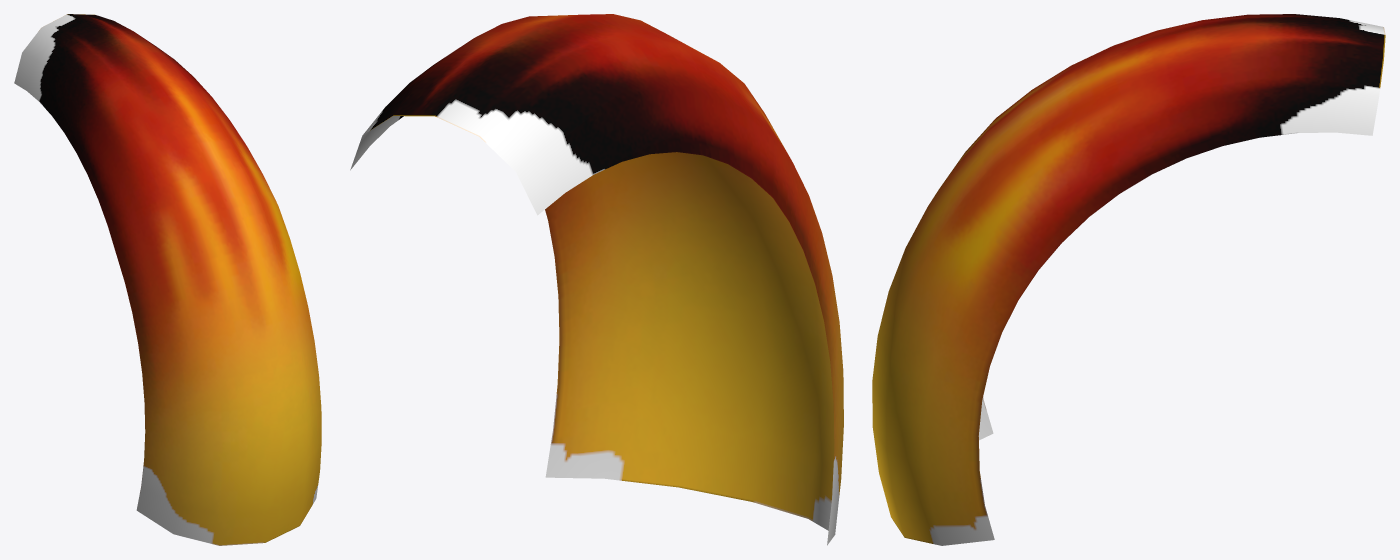
Rendered from sword_t.FBX.
The picture shows the model from 3 angles, left to right: view 1: azimuth 30°, elevation 25°; view 2: azimuth 150°, elevation 25°; view 3: azimuth 270°, elevation 25°; orthographic projection. The views are drawn at different scales.
Visible parts, largest first — view 1: Loft01; view 2: Loft01; view 3: Loft01.
Part boxes in pixels (left/top/right/bottom): Loft01: left=14, top=14, right=321, bottom=545; Loft01: left=350, top=14, right=843, bottom=545; Loft01: left=872, top=14, right=1385, bottom=545.
Bounding box in the file's own units: 2.4 × 4.88 × 5.19.
